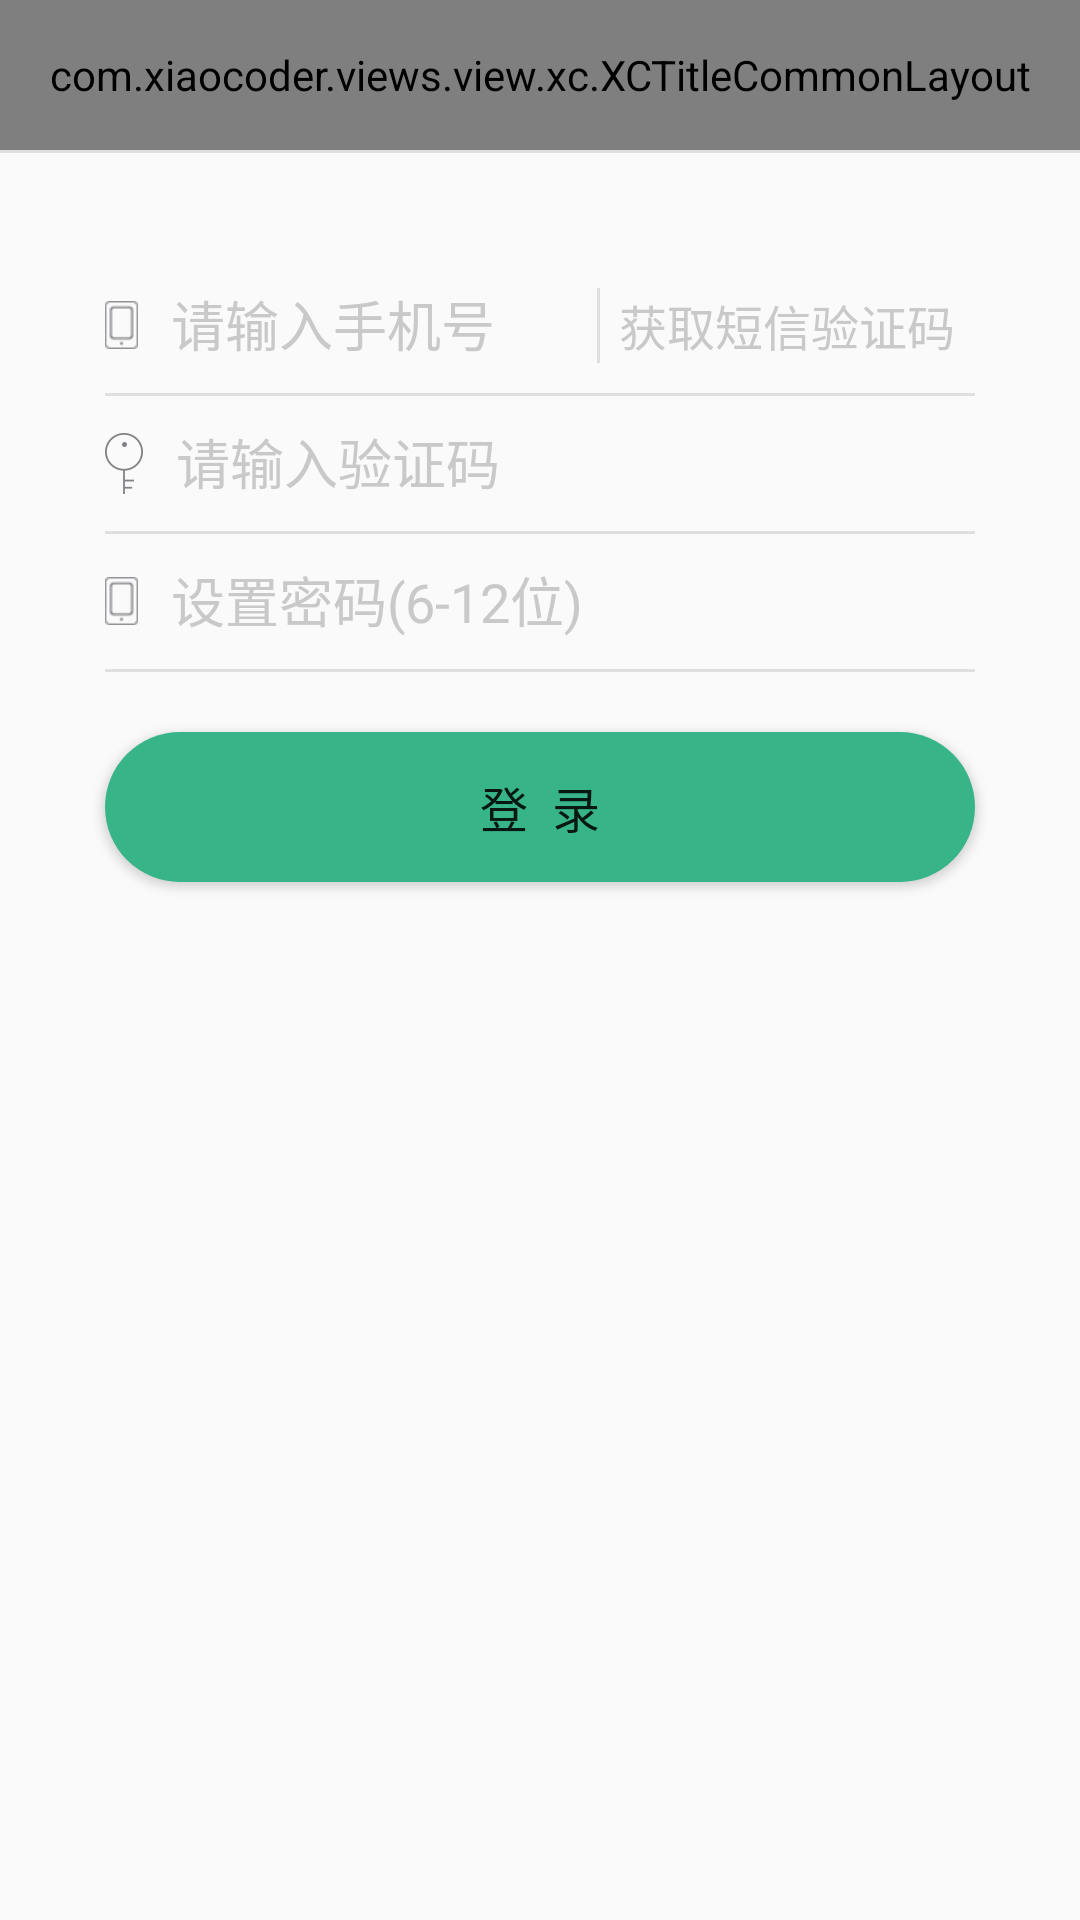

Named icons in this screenshot (1080 x 1920) and their centers, (x,y):
register key: (124,463)
register mobile: (121,325), (121,601)
